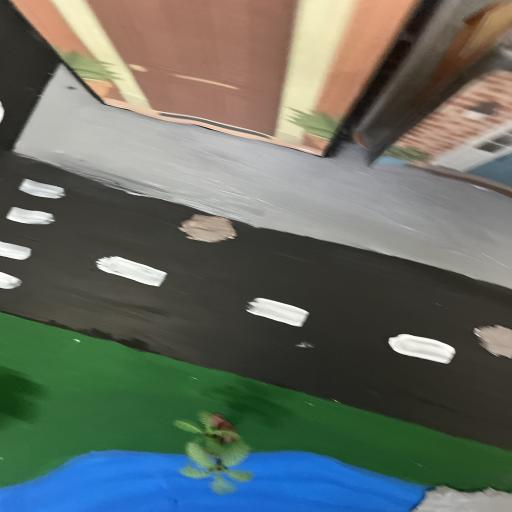encroachment: (409, 482, 512, 512)
porthole: (174, 210, 242, 246), (469, 326, 512, 359)
